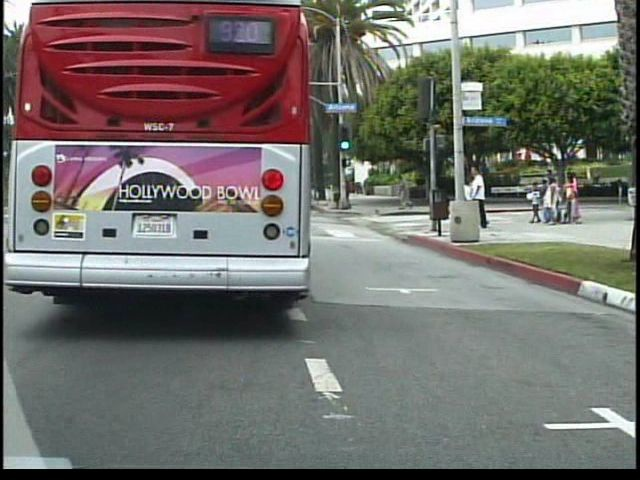person: (466, 162, 493, 231), (458, 172, 480, 227), (396, 172, 415, 213)
